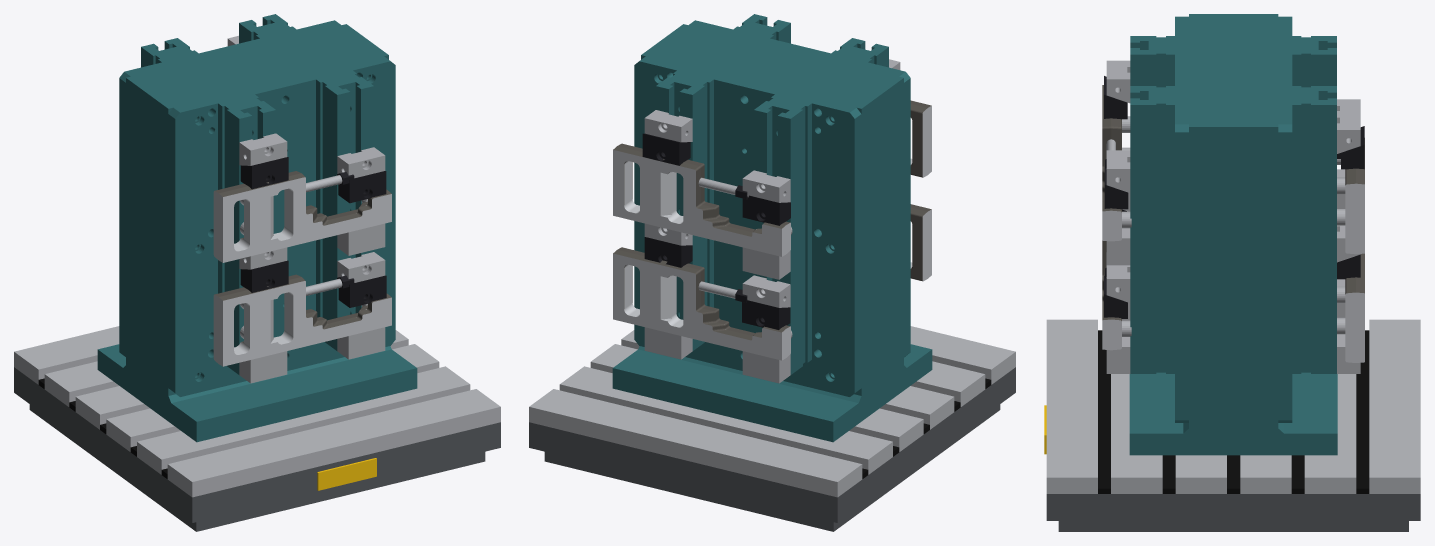
The model's file is pallet_part00_phase10_done.glb.
3 renders of one model, left to right at view 1: azimuth 30°, elevation 25°; view 2: azimuth 150°, elevation 25°; view 3: azimuth 270°, elevation 25°, orthographic. The views are drawn at different scales.
Visible parts, largest first — view 1: fixture__fx_paint, pallet_body__pb_steel, pallet_body__pb_steel_dark, fixture__fx_steel, part_1__part_machined, part_2__part_machined, pallet_body__pb_safety_yellow, part_2__part_raw, part_1__part_raw, gripper_jaw_4__fx_oxide, gripper_jaw_3__fx_oxide, gripper_jaw_8__fx_oxide (+1 smaller); view 2: fixture__fx_paint, pallet_body__pb_steel, pallet_body__pb_steel_dark, fixture__fx_steel, part_4__part_machined, part_3__part_machined, part_3__part_raw, part_4__part_raw, gripper_jaw_7__fx_oxide, gripper_jaw_2__fx_oxide, gripper_jaw_1__fx_oxide, gripper_jaw_6__fx_oxide (+4 smaller); view 3: fixture__fx_paint, pallet_body__pb_steel, pallet_body__pb_steel_dark, fixture__fx_steel, pallet_body__pb_rubber, part_3__part_machined, part_4__part_machined, part_2__part_raw, part_2__part_machined, part_1__part_machined, gripper_jaw_7__fx_oxide, gripper_jaw_8__fx_oxide (+3 smaller).
Boxes of the visible parts, <box> form: fixture__fx_paint: <box>97,14,417,442</box>; pallet_body__pb_steel: <box>14,326,500,497</box>; pallet_body__pb_steel_dark: <box>14,367,500,531</box>; fixture__fx_steel: <box>227,35,385,383</box>; part_1__part_machined: <box>213,281,391,366</box>; part_2__part_machined: <box>213,177,391,262</box>; pallet_body__pb_safety_yellow: <box>317,458,376,490</box>; part_2__part_raw: <box>214,171,391,239</box>; part_1__part_raw: <box>214,274,391,342</box>; gripper_jaw_4__fx_oxide: <box>240,260,288,292</box>; gripper_jaw_3__fx_oxide: <box>240,157,288,189</box>; gripper_jaw_8__fx_oxide: <box>338,171,386,203</box>; fixture__fx_paint: <box>612,14,932,442</box>; pallet_body__pb_steel: <box>529,326,1015,497</box>; pallet_body__pb_steel_dark: <box>529,367,1015,531</box>; fixture__fx_steel: <box>644,59,900,383</box>; part_4__part_machined: <box>613,150,790,256</box>; part_3__part_machined: <box>613,253,790,360</box>; part_3__part_raw: <box>613,247,789,340</box>; part_4__part_raw: <box>613,143,789,236</box>; gripper_jaw_7__fx_oxide: <box>642,133,690,165</box>; gripper_jaw_2__fx_oxide: <box>742,195,790,225</box>; gripper_jaw_1__fx_oxide: <box>742,300,790,329</box>; gripper_jaw_6__fx_oxide: <box>644,237,692,267</box>; fixture__fx_paint: <box>1129,14,1337,455</box>; pallet_body__pb_steel: <box>1046,319,1420,493</box>; pallet_body__pb_steel_dark: <box>1046,494,1420,531</box>; fixture__fx_steel: <box>1106,60,1360,373</box>; pallet_body__pb_rubber: <box>1098,330,1369,493</box>; part_3__part_machined: <box>1345,292,1364,362</box>; part_4__part_machined: <box>1345,183,1364,254</box>; part_2__part_raw: <box>1102,85,1121,212</box>; part_2__part_machined: <box>1102,210,1121,241</box>; part_1__part_machined: <box>1102,319,1121,350</box>; gripper_jaw_7__fx_oxide: <box>1341,126,1364,169</box>; gripper_jaw_8__fx_oxide: <box>1104,166,1128,209</box>.
Bounding box in the file's own units: 0.63 × 0.72 × 0.634.
